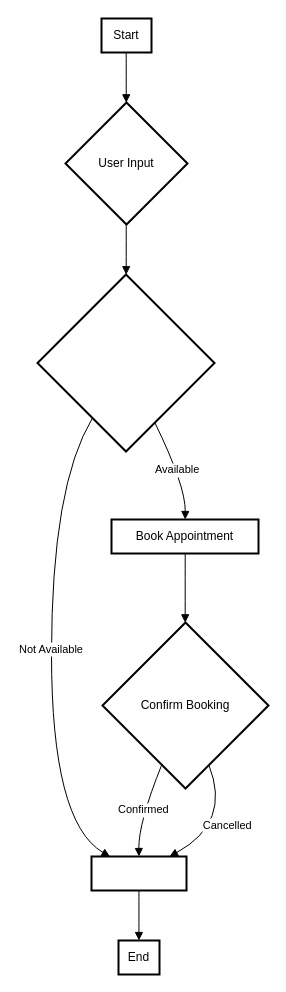
Some shapes in this 286 by 992 pixel diagram are drawn without their labels. The centre of each missing label's shape, as x and y in pixels:
Check Availability: (x=125, y=362)
Notify User: (x=138, y=873)
